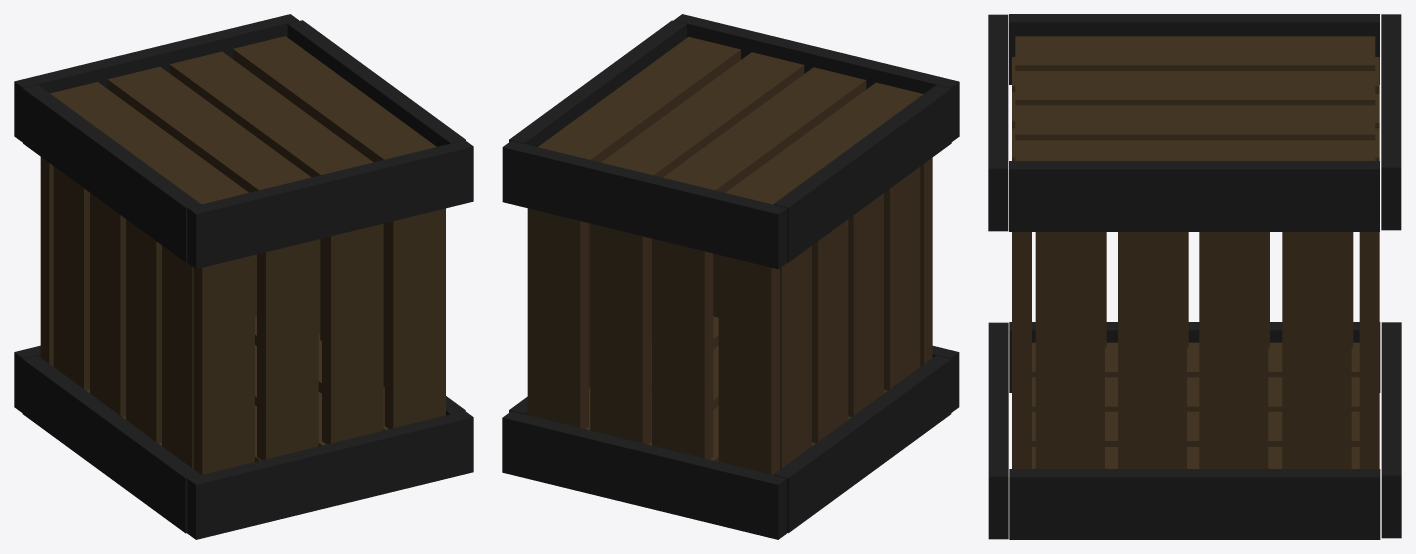
Rendered from Low Poly Crate Place Holder.fbx.
The picture shows the model from 3 angles, left to right: view 1: azimuth 30°, elevation 25°; view 2: azimuth 150°, elevation 25°; view 3: azimuth 270°, elevation 25°; orthographic projection. The views are drawn at different scales.
Visible parts, largest first — view 1: Cube.016; view 2: Cube.016; view 3: Cube.016.
Part boxes in pixels (left/top/right/bottom): Cube.016: left=14, top=14, right=473, bottom=539; Cube.016: left=502, top=14, right=959, bottom=539; Cube.016: left=988, top=14, right=1401, bottom=539.
Size of the model in its own units: 155 by 172 by 174.
